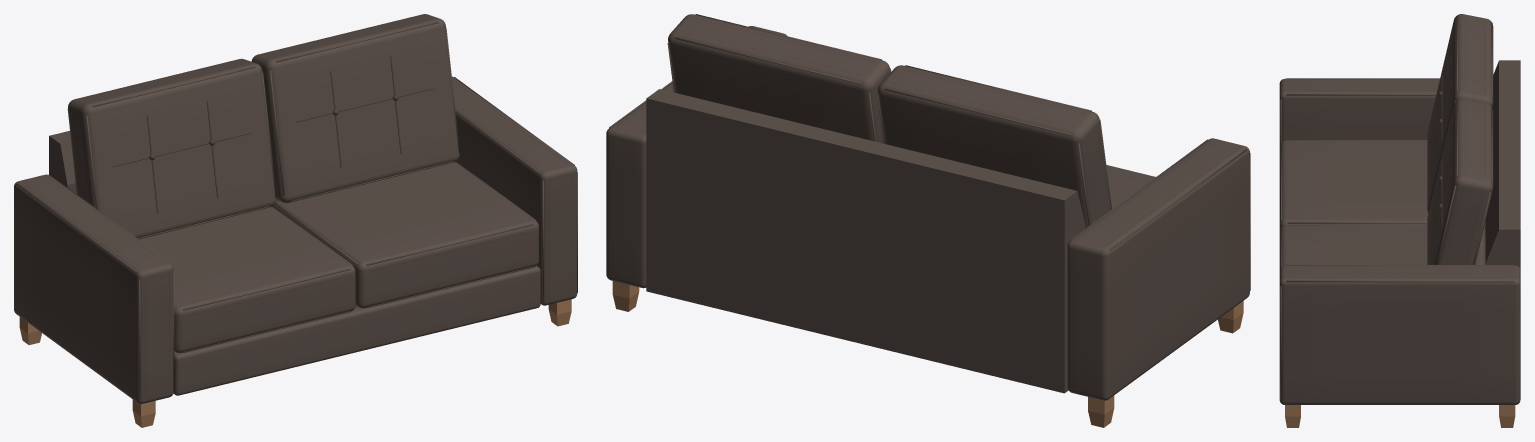
Rendered from benza_180x90.glb.
The picture shows the model from 3 angles, left to right: view 1: azimuth 30°, elevation 25°; view 2: azimuth 150°, elevation 25°; view 3: azimuth 270°, elevation 25°; orthographic projection. The views are drawn at different scales.
Visible parts, largest first — view 1: p1, p2, p0; view 2: p1, p0, p2; view 3: p1, p2, p0.
Part boxes in pixels (x1,y1,x2,y2): p1: [14, 14, 577, 403]; p2: [22, 16, 572, 398]; p0: [19, 299, 571, 427]; p1: [606, 14, 1250, 400]; p0: [612, 281, 1243, 427]; p2: [616, 18, 1238, 246]; p1: [1279, 14, 1520, 404]; p2: [1290, 16, 1512, 277]; p0: [1285, 405, 1515, 427].
Size of the model in its own units: 1.8 by 0.9642 by 0.9006.
Materials: 3 (2 with a texture image).
